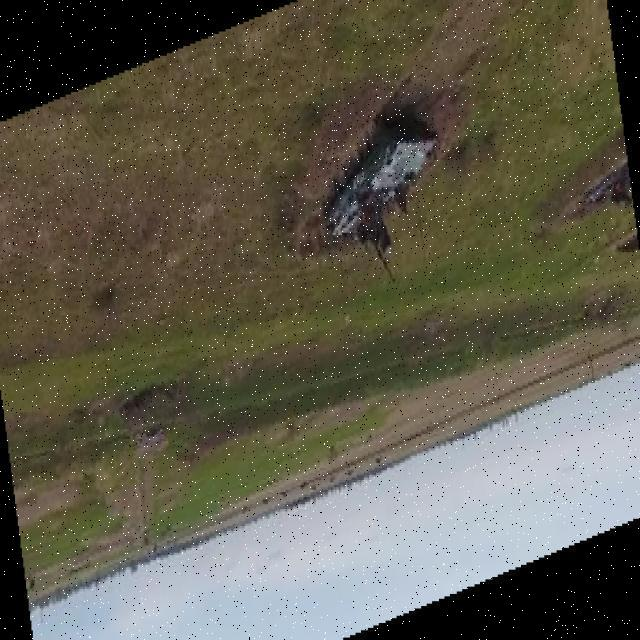MIL_MBT: (320, 112, 440, 256)
